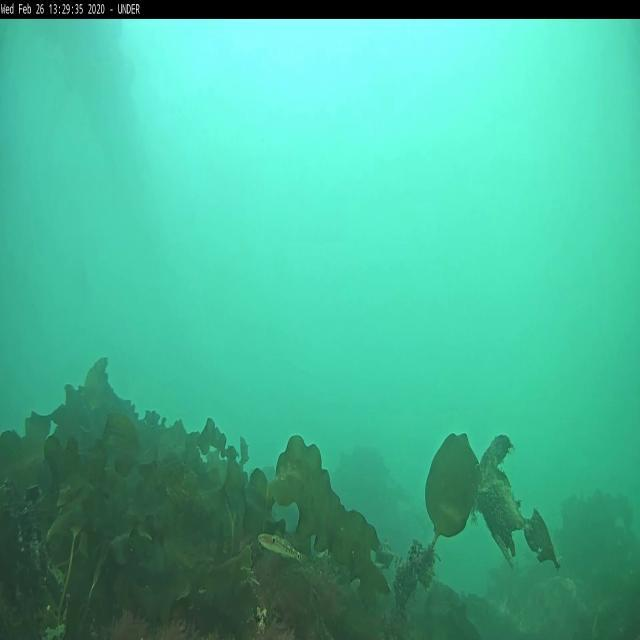fish: (258, 533, 305, 561)
